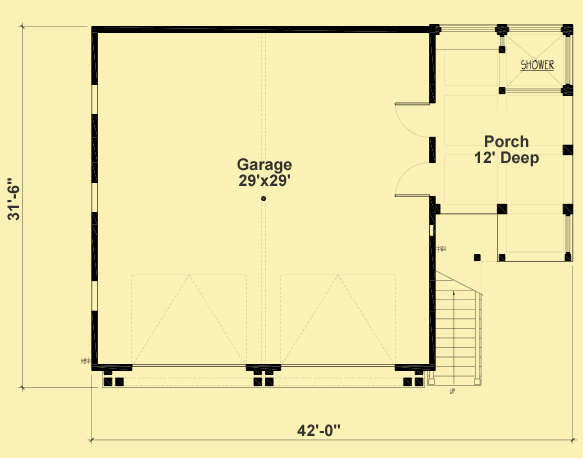door: (394, 98, 433, 139), (394, 161, 430, 199)
stairs: (435, 268, 484, 389)
window: (438, 22, 563, 36), (88, 278, 103, 315), (88, 179, 101, 218), (564, 213, 573, 258), (89, 84, 100, 116)
